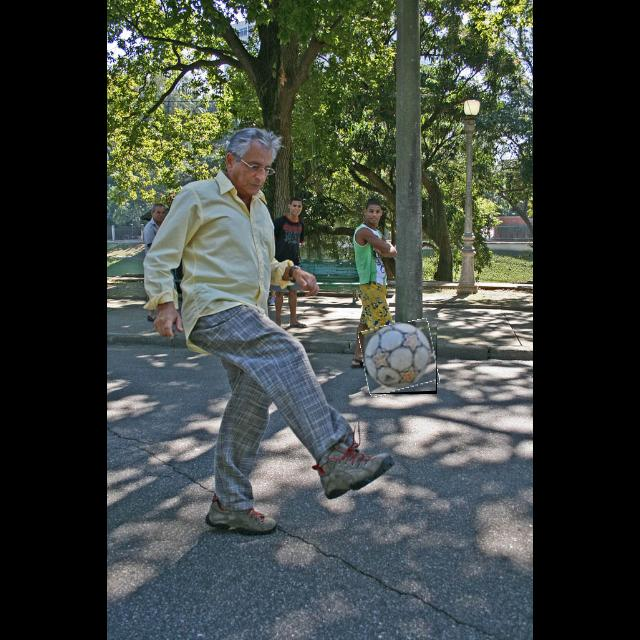Football: (361, 322, 437, 394)
